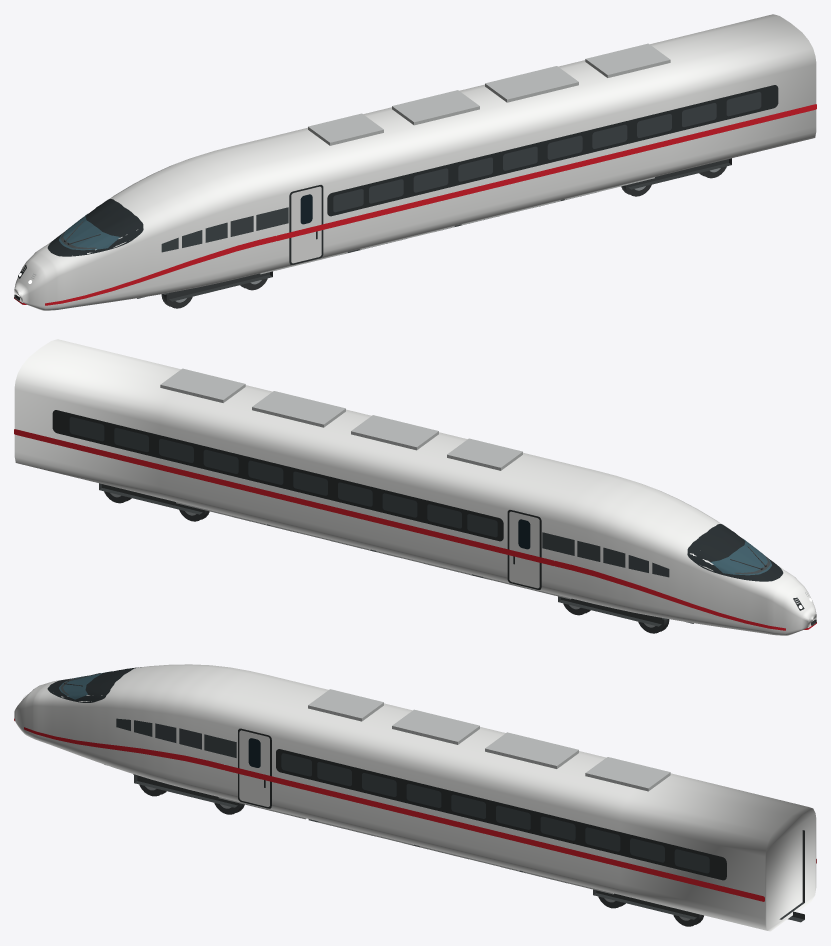
The model's file is ice3-br403-v2-unified-second-end-403-5.glb.
3 renders of one model, top to bottom at view 1: azimuth 30°, elevation 25°; view 2: azimuth 150°, elevation 25°; view 3: azimuth 330°, elevation 25°, orthographic.
Visible parts, largest first — view 1: ice3_v2_reference_calibrated_cab_shell.001, ice3_continuity_403_0_continuous_black_glazing_band_1.001, ice3_continuity_403_0_shared_red_body_stripe_1.001, ice3_v2_panorama_windscreen_seal.001, ice3_v2_roof_fairing_1.001, ice3_v2_roof_fairing_2.001, ice3_continuity_403_0_door_leaf_1.001, ice3_v2_roof_fairing_0.001, ice3_v2_roof_fairing_3.001, ice3_continuity_integrated_nose_stripe_1.001, ice3_v2_panorama_windscreen_glass.001, ice3_v2_end_car_bogie_1_sideframe_1.001 (+11 smaller); view 2: ice3_v2_reference_calibrated_cab_shell.001, ice3_continuity_403_0_continuous_black_glazing_band_-1.001, ice3_continuity_403_0_shared_red_body_stripe_-1.001, ice3_v2_panorama_windscreen_seal.001, ice3_v2_roof_fairing_1.001, ice3_v2_roof_fairing_2.001, ice3_continuity_403_0_door_leaf_-1.001, ice3_v2_roof_fairing_0.001, ice3_v2_roof_fairing_3.001, ice3_continuity_integrated_nose_stripe_-1.001, ice3_v2_panorama_windscreen_glass.001, ice3_v2_end_car_bogie_1_sideframe_-1.001 (+11 smaller); view 3: ice3_v2_reference_calibrated_cab_shell.001, ice3_continuity_403_0_continuous_black_glazing_band_1.001, ice3_continuity_403_0_shared_red_body_stripe_1.001, ice3_v2_roof_fairing_1.001, ice3_v2_roof_fairing_2.001, ice3_continuity_403_0_door_leaf_1.001, ice3_v2_roof_fairing_0.001, ice3_v2_roof_fairing_3.001, ice3_v2_panorama_windscreen_seal.001, ice3_continuity_integrated_nose_stripe_1.001, ice3_v2_end_car_bogie_1_sideframe_1.001, ice3_v2_end_car_bogie_0_sideframe_1.001 (+12 smaller).
Boxes of the visible parts, bbox=[...] form: ice3_v2_reference_calibrated_cab_shell.001: bbox=[14, 14, 816, 310]; ice3_continuity_403_0_continuous_black_glazing_band_1.001: bbox=[327, 85, 778, 216]; ice3_continuity_403_0_shared_red_body_stripe_1.001: bbox=[276, 104, 816, 240]; ice3_v2_panorama_windscreen_seal.001: bbox=[47, 199, 143, 256]; ice3_v2_roof_fairing_1.001: bbox=[485, 66, 578, 102]; ice3_v2_roof_fairing_2.001: bbox=[392, 90, 479, 125]; ice3_continuity_403_0_door_leaf_1.001: bbox=[291, 186, 321, 263]; ice3_v2_roof_fairing_0.001: bbox=[585, 43, 670, 77]; ice3_v2_roof_fairing_3.001: bbox=[308, 113, 383, 145]; ice3_continuity_integrated_nose_stripe_1.001: bbox=[22, 236, 275, 305]; ice3_v2_panorama_windscreen_glass.001: bbox=[59, 214, 120, 250]; ice3_v2_end_car_bogie_1_sideframe_1.001: bbox=[169, 271, 272, 301]; ice3_v2_reference_calibrated_cab_shell.001: bbox=[14, 339, 816, 635]; ice3_continuity_403_0_continuous_black_glazing_band_-1.001: bbox=[52, 410, 503, 541]; ice3_continuity_403_0_shared_red_body_stripe_-1.001: bbox=[14, 429, 554, 565]; ice3_v2_panorama_windscreen_seal.001: bbox=[687, 524, 783, 581]; ice3_v2_roof_fairing_1.001: bbox=[252, 391, 345, 427]; ice3_v2_roof_fairing_2.001: bbox=[351, 415, 438, 450]; ice3_continuity_403_0_door_leaf_-1.001: bbox=[509, 511, 539, 588]; ice3_v2_roof_fairing_0.001: bbox=[160, 368, 245, 402]; ice3_v2_roof_fairing_3.001: bbox=[447, 438, 522, 470]; ice3_continuity_integrated_nose_stripe_-1.001: bbox=[555, 561, 808, 630]; ice3_v2_panorama_windscreen_glass.001: bbox=[710, 539, 771, 575]; ice3_v2_end_car_bogie_1_sideframe_-1.001: bbox=[558, 596, 661, 626]; ice3_v2_reference_calibrated_cab_shell.001: bbox=[14, 664, 816, 931]; ice3_continuity_403_0_continuous_black_glazing_band_1.001: bbox=[276, 749, 726, 880]; ice3_continuity_403_0_shared_red_body_stripe_1.001: bbox=[223, 765, 764, 901]; ice3_v2_roof_fairing_1.001: bbox=[485, 732, 578, 768]; ice3_v2_roof_fairing_2.001: bbox=[392, 709, 479, 744]; ice3_continuity_403_0_door_leaf_1.001: bbox=[239, 730, 269, 806]; ice3_v2_roof_fairing_0.001: bbox=[585, 757, 670, 791]; ice3_v2_roof_fairing_3.001: bbox=[308, 689, 383, 721]; ice3_v2_panorama_windscreen_seal.001: bbox=[47, 667, 140, 702]; ice3_continuity_integrated_nose_stripe_1.001: bbox=[14, 719, 223, 769]; ice3_v2_end_car_bogie_1_sideframe_1.001: bbox=[134, 774, 237, 807]; ice3_v2_end_car_bogie_0_sideframe_1.001: bbox=[593, 889, 696, 919].
Bounding box in the file's own units: 26.21 × 4.04 × 3.01.
